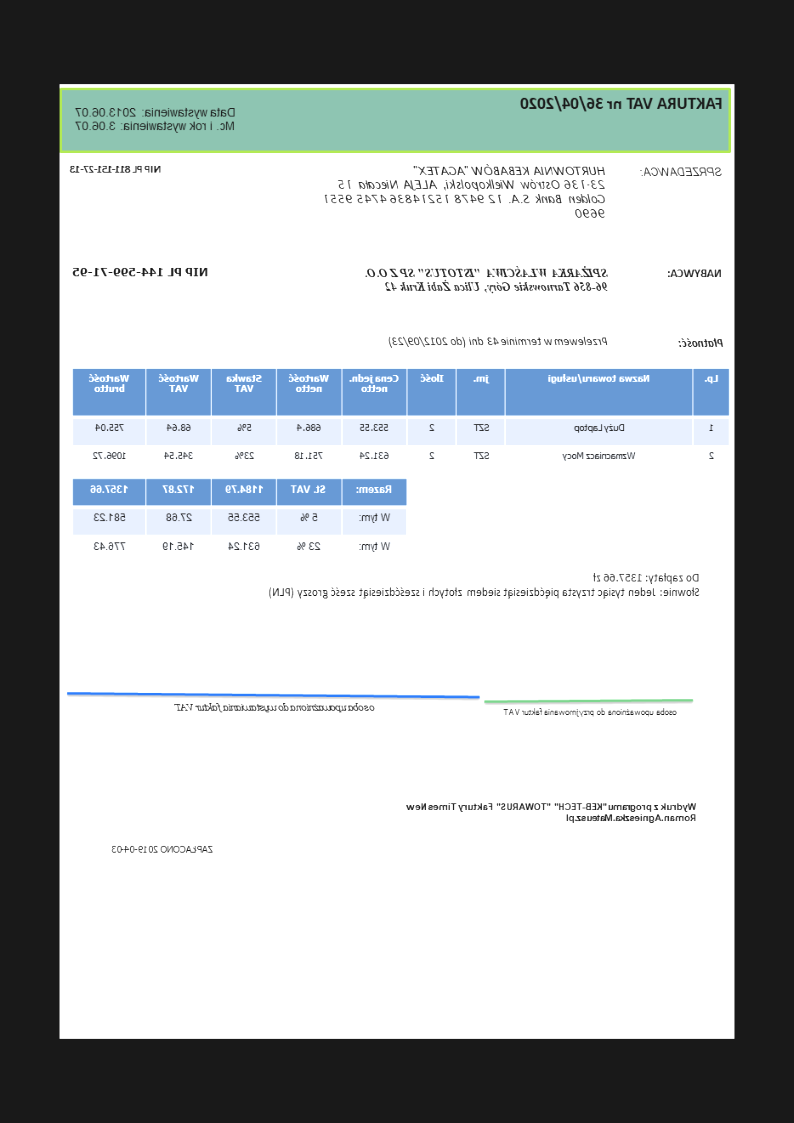Table: (71, 366, 731, 474), (72, 479, 408, 564)
TextBox: (322, 162, 609, 223), (267, 570, 702, 604), (363, 264, 610, 294), (404, 800, 698, 825), (72, 105, 239, 135), (519, 94, 725, 113), (388, 333, 611, 349), (173, 700, 377, 715), (72, 265, 211, 279), (502, 706, 678, 717), (110, 842, 216, 856), (640, 162, 724, 179), (68, 162, 164, 175), (665, 266, 724, 280), (677, 335, 726, 350)
